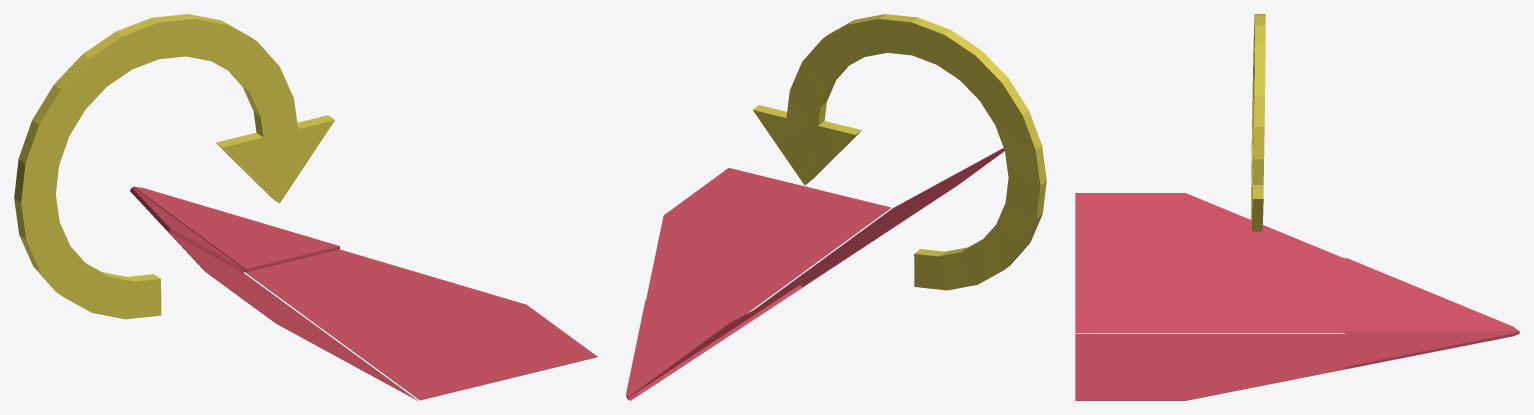
Rendered from paperairplane5.glb.
3 views of the same model, side by side, from view 1: azimuth 30°, elevation 25°; view 2: azimuth 150°, elevation 25°; view 3: azimuth 270°, elevation 25° (orthographic). The views are drawn at different scales.
Visible parts, largest first — view 1: Mesh_Mesh_head_geo.001_lambert2SG.001; view 2: Mesh_Mesh_head_geo.001_lambert2SG.001; view 3: Mesh_Mesh_head_geo.001_lambert2SG.001.
Boxes of the visible parts, <box> form: Mesh_Mesh_head_geo.001_lambert2SG.001: <box>14,14,597,400</box>; Mesh_Mesh_head_geo.001_lambert2SG.001: <box>626,14,1046,400</box>; Mesh_Mesh_head_geo.001_lambert2SG.001: <box>1075,14,1519,400</box>.
Size of the model in its own units: 13 by 8.83 by 14.
